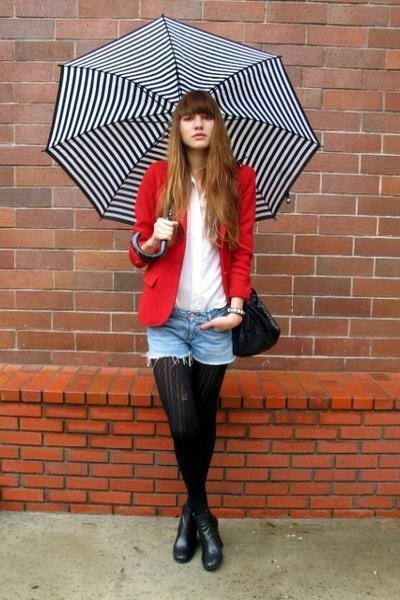bag: (228, 288, 280, 357)
jacket: (125, 158, 275, 325)
shirt: (175, 204, 226, 311)
shoe: (172, 507, 223, 571)
shorts: (145, 296, 243, 365)
